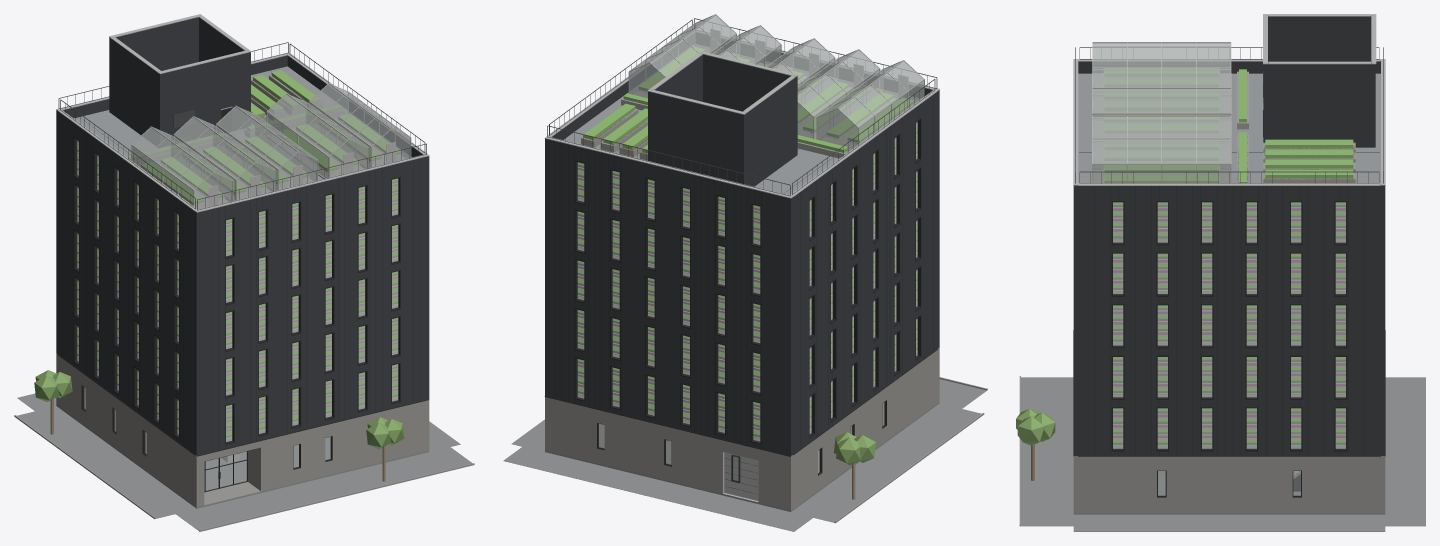
File: clay-led-grow-block-clay-v003.glb
3 views of the same model, side by side, from view 1: azimuth 30°, elevation 25°; view 2: azimuth 150°, elevation 25°; view 3: azimuth 270°, elevation 25° (orthographic). The views are drawn at different scales.
Parts seen in each view (by area): view 1: CLAY_WALL, CLAY_GLASS, CLAY_STONE, CLAY_LEAF, CLAY_TRIM, CLAY_FOUNDATION, CLAY_PALE, CLAY_JOINT, CLAY_SAND, CLAY_MEMBRANE, CLAY_RACK, CLAY_HARDWARE (+3 smaller); view 2: CLAY_WALL, CLAY_GLASS, CLAY_STONE, CLAY_TRIM, CLAY_FOUNDATION, CLAY_LEAF, CLAY_PALE, CLAY_JOINT, CLAY_MEMBRANE, CLAY_SAND, CLAY_RACK, CLAY_HARDWARE (+3 smaller); view 3: CLAY_WALL, CLAY_GLASS, CLAY_LEAF, CLAY_FOUNDATION, CLAY_STONE, CLAY_PALE, CLAY_TRIM, CLAY_MEMBRANE, CLAY_JOINT, CLAY_SAND, CLAY_LED, CLAY_RACK (+3 smaller).
Boxes of the visible parts, x1=… form: CLAY_WALL: x1=56, y1=17, x2=429, y2=455; CLAY_GLASS: x1=77, y1=84, x2=410, y2=490; CLAY_STONE: x1=14, y1=353, x2=474, y2=531; CLAY_LEAF: x1=77, y1=70, x2=401, y2=438; CLAY_TRIM: x1=73, y1=107, x2=400, y2=492; CLAY_FOUNDATION: x1=15, y1=393, x2=473, y2=531; CLAY_PALE: x1=56, y1=14, x2=429, y2=212; CLAY_JOINT: x1=58, y1=118, x2=429, y2=456; CLAY_SAND: x1=128, y1=75, x2=406, y2=504; CLAY_MEMBRANE: x1=74, y1=66, x2=411, y2=201; CLAY_RACK: x1=77, y1=119, x2=402, y2=462; CLAY_HARDWARE: x1=58, y1=42, x2=426, y2=478; CLAY_WALL: x1=545, y1=33, x2=939, y2=455; CLAY_GLASS: x1=577, y1=15, x2=923, y2=480; CLAY_STONE: x1=545, y1=347, x2=987, y2=522; CLAY_TRIM: x1=574, y1=118, x2=921, y2=482; CLAY_FOUNDATION: x1=503, y1=379, x2=986, y2=531; CLAY_LEAF: x1=577, y1=46, x2=917, y2=437; CLAY_PALE: x1=544, y1=14, x2=939, y2=502; CLAY_JOINT: x1=544, y1=94, x2=937, y2=494; CLAY_MEMBRANE: x1=563, y1=44, x2=918, y2=195; CLAY_SAND: x1=581, y1=52, x2=899, y2=160; CLAY_RACK: x1=577, y1=76, x2=917, y2=441; CLAY_HARDWARE: x1=547, y1=18, x2=937, y2=196; CLAY_WALL: x1=1073, y1=15, x2=1385, y2=491; CLAY_GLASS: x1=1093, y1=43, x2=1345, y2=495; CLAY_LEAF: x1=1104, y1=69, x2=1353, y2=444; CLAY_FOUNDATION: x1=1020, y1=377, x2=1425, y2=531; CLAY_STONE: x1=1019, y1=376, x2=1385, y2=525; CLAY_PALE: x1=1073, y1=14, x2=1385, y2=478; CLAY_TRIM: x1=1111, y1=110, x2=1347, y2=497; CLAY_MEMBRANE: x1=1078, y1=73, x2=1380, y2=183; CLAY_JOINT: x1=1073, y1=152, x2=1385, y2=456; CLAY_SAND: x1=1092, y1=71, x2=1355, y2=182; CLAY_LED: x1=1113, y1=208, x2=1345, y2=437; CLAY_RACK: x1=1103, y1=76, x2=1345, y2=474.
Bounding box in the file's own units: 29.7 × 32.66 × 30.26.
